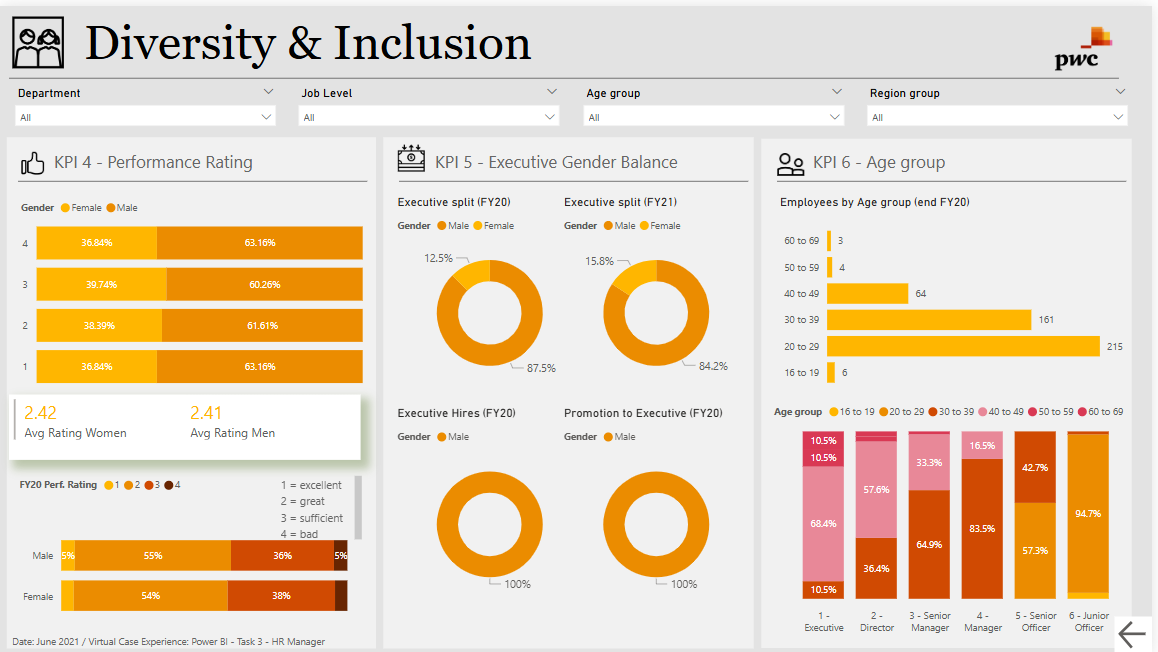

The dashboard page shown, as its layout file describes it:
{"tool":"powerbi","page":{"name":"HR Manager (2/2)","canvas":[1280,720],"ordinal":1},"visuals":[{"type":"basicShape","box":[3.9,139.9,418.6,579.7],"z":0},{"type":"slicer","fields":{"Values":["HR Manager.Job Level after FY20 promotions"]},"box":[322.5,83.9,310,55.9],"z":1000},{"type":"slicer","fields":{"Values":["HR Manager.Age group"]},"box":[638.2,83.9,310,55.9],"z":2000},{"type":"textbox","box":[88.7,4.8,1172.9,75.2],"z":3000},{"type":"basicShape","box":[0,60.8,1253,40.5],"z":4000},{"type":"basicShape","box":[422.2,139.6,420,579.7],"z":5000},{"type":"basicShape","box":[9.5,174.9,408,39.5],"z":6000},{"type":"textbox","box":[54.6,154.4,315.4,35.7],"z":7000},{"type":"multiRowCard","fields":{"Values":["HR Manager.Avg Rating Women","HR Manager.Avg Rating Men"]},"box":[10.1,431.1,390.9,72.6],"z":8000},{"type":"hundredPercentStackedBarChart","fields":{"Series":["HR Manager.FY20 Performance Rating"],"Category":["HR Manager.Gender"],"Y":["CountNonNull(HR Manager.Employee ID)"]},"box":[16.8,513.8,374.2,205.5],"z":9000},{"type":"image","box":[854.5,413.3,6.7,35.7],"z":10000},{"type":"image","box":[1129,0,151,94.5],"z":11000},{"type":"image","box":[8.7,0,67.5,81],"z":12000},{"type":"basicShape","box":[842.2,141.8,420,577.5],"z":13000},{"type":"image","box":[19,156.4,35.7,35.7],"z":14000},{"type":"slicer","fields":{"Values":["HR Manager.Last Department in FY20"]},"box":[6.8,83.9,310,55.9],"z":15000},{"type":"slicer","fields":{"Values":["HR Manager.Broad region group: nationality 1"]},"box":[954,83.9,310,55.9],"z":16000},{"type":"textbox","box":[477.9,154.4,315.4,35.7],"z":17000},{"type":"basicShape","box":[432.8,174.9,408,39.5],"z":18000},{"type":"textbox","box":[897.8,154.4,315.4,35.7],"z":19000},{"type":"basicShape","box":[852.7,174.9,408,39.5],"z":20000},{"type":"hundredPercentStackedBarChart","fields":{"Category":["HR Manager.FY20 Performance Rating"],"Series":["HR Manager.Gender"],"Y":["Count(HR Manager.Employee ID)"]},"box":[19,204.4,389.8,225.6],"z":21000},{"type":"textbox","box":[306,516,100.5,81.5],"z":22000},{"type":"donutChart","title":"Executive split (FY21)","fields":{"Category":["HR Manager.Gender"],"Y":["CountNonNull(HR Manager.Employee ID)"]},"box":[621.1,209.9,214.5,220],"z":23000},{"type":"donutChart","title":"Executive split (FY20)","fields":{"Category":["HR Manager.Gender"],"Y":["CountNonNull(HR Manager.Employee ID)"]},"box":[436.8,209.9,214.5,220],"z":24000},{"type":"donutChart","title":"Executive Hires (FY20)","fields":{"Category":["HR Manager.Gender"],"Y":["CountNonNull(HR Manager.Employee ID)"]},"box":[436.7,444.7,214.5,220],"z":25000},{"type":"donutChart","title":"Promotion to Executive (FY20)","fields":{"Category":["HR Manager.Gender"],"Y":["CountNonNull(HR Manager.Employee ID)"]},"box":[621,444.7,214.5,220],"z":26000},{"type":"image","box":[857.8,153,40.2,44.7],"z":27000},{"type":"clusteredBarChart","title":"Employees by Age group (end FY20)","fields":{"Category":["HR Manager.Age group"],"Y":["CountNonNull(HR Manager.Employee ID)"]},"box":[861.2,210,392,225.6],"z":28000},{"type":"hundredPercentStackedColumnChart","fields":{"Category":["HR Manager.Job Level after FY21 promotions"],"Series":["HR Manager.Age group"],"Y":["CountNonNull(HR Manager.Employee ID)"]},"box":[854.5,431.1,406.6,273.6],"z":29000},{"type":"image","box":[436.7,147.4,40.2,44.7],"z":30000},{"type":"actionButton","box":[1237.6,679.1,42.4,40.5],"z":31000},{"type":"textbox","box":[7.7,689.7,397.4,29.9],"z":32000}]}

Visuals, with their boxes in screenshot pixels (x1, y1, x2, y2), scaled from the page's 1280x720 canvas onto the 1158x652 screenshot:
basicShape: region(4, 127, 382, 651)
slicer - HR Manager.Job Level after FY20 promotions: region(292, 76, 572, 127)
slicer - HR Manager.Age group: region(577, 76, 858, 127)
textbox: region(80, 4, 1141, 72)
basicShape: region(0, 55, 1134, 92)
basicShape: region(382, 126, 762, 651)
basicShape: region(9, 158, 378, 194)
textbox: region(49, 140, 335, 172)
multiRowCard - HR Manager.Avg Rating Women x HR Manager.Avg Rating Men: region(9, 390, 363, 456)
hundredPercentStackedBarChart - HR Manager.FY20 Performance Rating x HR Manager.Gender: region(15, 465, 354, 651)
image: region(773, 374, 779, 407)
image: region(1021, 0, 1157, 86)
image: region(8, 0, 69, 73)
basicShape: region(762, 128, 1142, 651)
image: region(17, 142, 49, 174)
slicer - HR Manager.Last Department in FY20: region(6, 76, 287, 127)
slicer - HR Manager.Broad region group: nationality 1: region(863, 76, 1144, 127)
textbox: region(432, 140, 718, 172)
basicShape: region(392, 158, 761, 194)
textbox: region(812, 140, 1098, 172)
basicShape: region(771, 158, 1141, 194)
hundredPercentStackedBarChart - HR Manager.FY20 Performance Rating x HR Manager.Gender: region(17, 185, 370, 389)
textbox: region(277, 467, 368, 541)
"Executive split (FY21)" donutChart: region(562, 190, 756, 389)
"Executive split (FY20)" donutChart: region(395, 190, 589, 389)
"Executive Hires (FY20)" donutChart: region(395, 403, 589, 602)
"Promotion to Executive (FY20)" donutChart: region(562, 403, 756, 602)
image: region(776, 139, 812, 179)
"Employees by Age group (end FY20)" clusteredBarChart: region(779, 190, 1134, 394)
hundredPercentStackedColumnChart - HR Manager.Job Level after FY21 promotions x HR Manager.Age group: region(773, 390, 1141, 638)
image: region(395, 133, 431, 174)
actionButton: region(1120, 615, 1157, 651)
textbox: region(7, 625, 366, 651)
